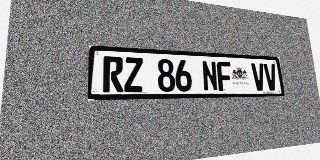6: (174, 59, 192, 92)
8: (157, 59, 175, 92)
F: (216, 61, 233, 91)
N: (201, 61, 218, 91)
R: (103, 56, 123, 92)
V: (251, 63, 266, 91), (263, 63, 278, 91)
Z: (124, 57, 143, 92)
